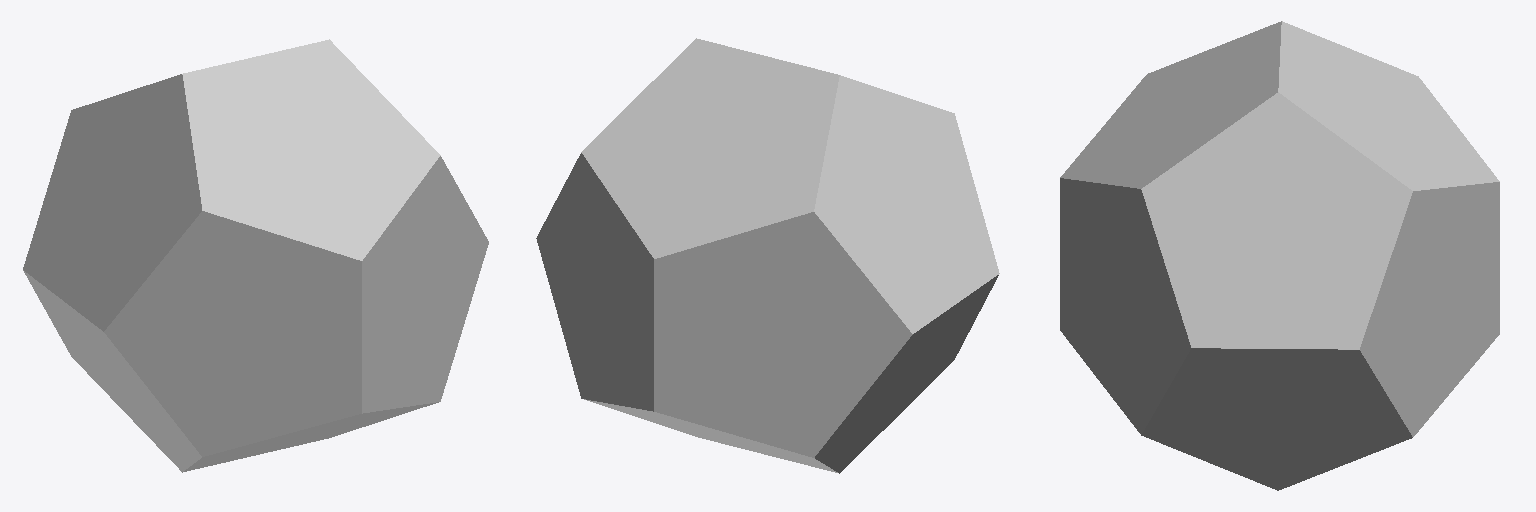
Rendered from ball3.obj.
3 renders of one model, left to right at view 1: azimuth 30°, elevation 25°; view 2: azimuth 150°, elevation 25°; view 3: azimuth 270°, elevation 25°, orthographic.
Visible parts, largest first — view 1: cylinder1_sep24; view 2: cylinder1_sep24; view 3: cylinder1_sep24.
Part boxes in pixels (x1,y1,x2,y2): cylinder1_sep24: (23,39,488,472); cylinder1_sep24: (536,38,999,473); cylinder1_sep24: (1060,21,1499,490).
Bounding box in the file's own units: 1.12 × 1.11 × 1.11.